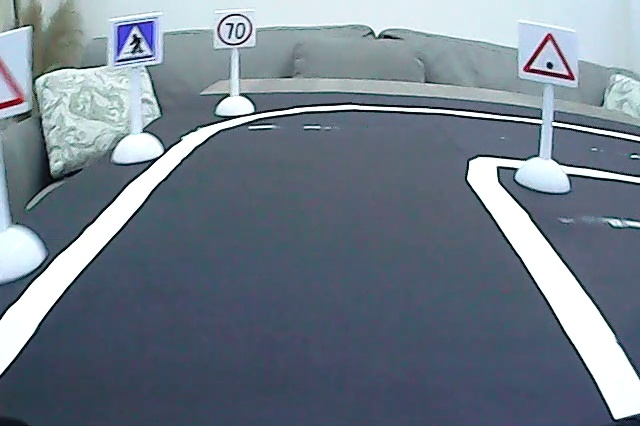green light: (520, 28, 578, 85)
pedestrian crossing: (113, 17, 157, 63)
speed limit 70: (214, 12, 256, 49)
